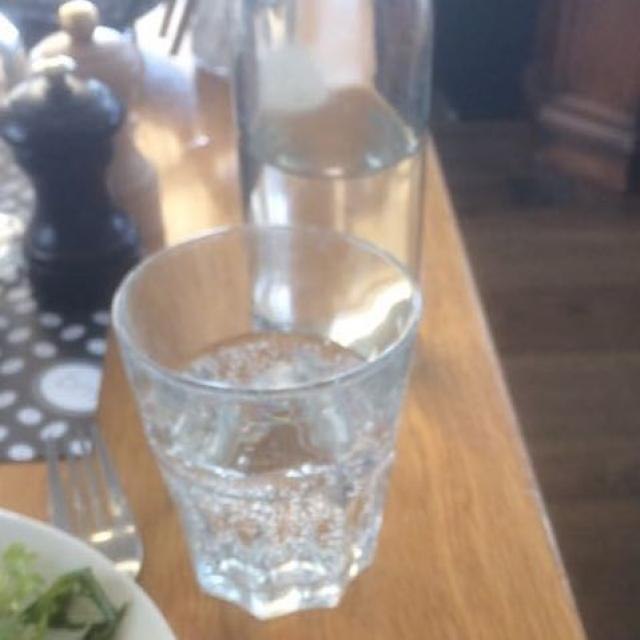water: (151, 318, 399, 595), (154, 344, 396, 603), (162, 333, 388, 592)
